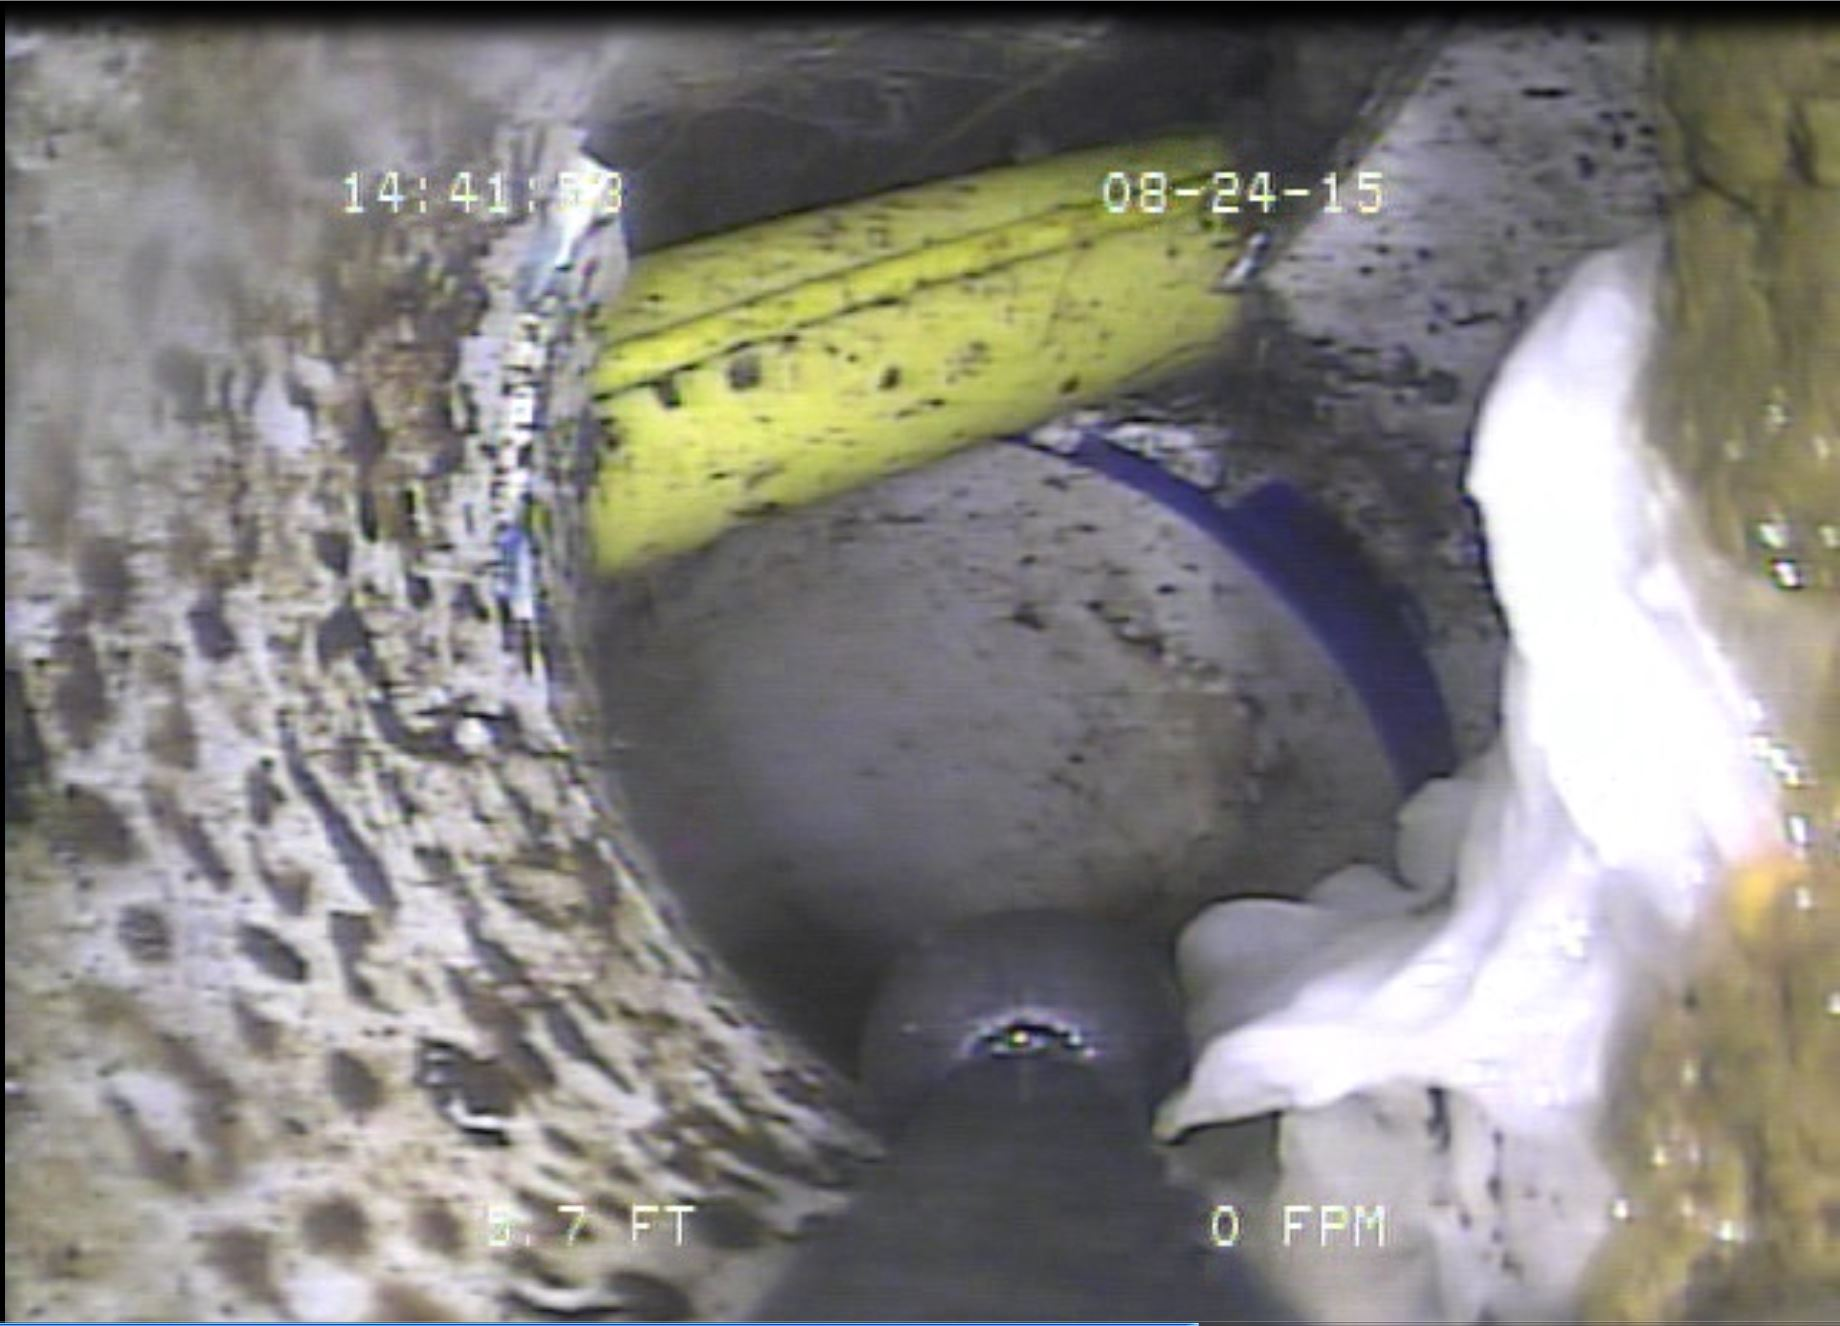cb: (529, 124, 1303, 614)
